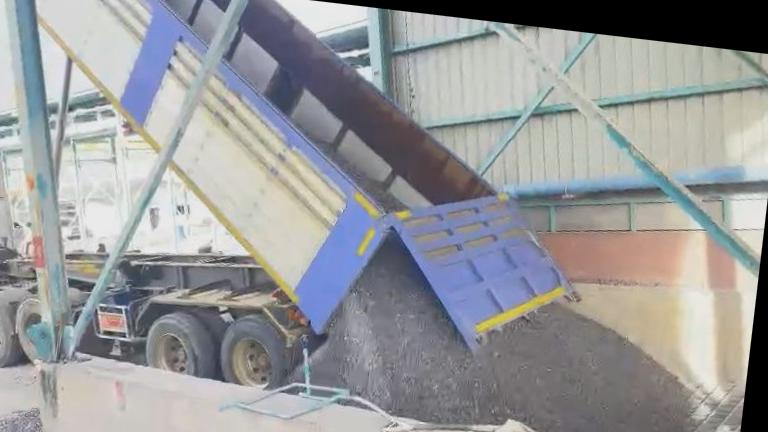gravel: (311, 239, 693, 432), (313, 141, 405, 209), (0, 408, 61, 432)
